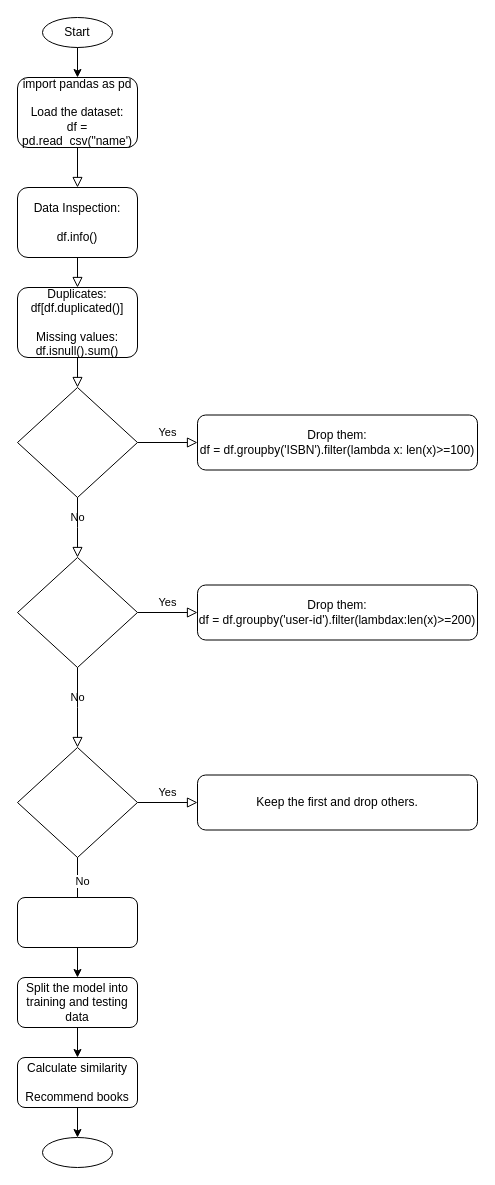
Image size: 495x1185. Some labels were removed from this diagram. The box of each missing label's shape, as (x1, y1, x2, y2) in pixels:
does the book have less than 100 reviews: (16, 386, 138, 498)
does the user have less than 200 reviews: (16, 556, 138, 668)
Encode IDs: (16, 896, 138, 948)
is a duplicate?: (16, 746, 138, 858)
Stop: (42, 1136, 112, 1168)
